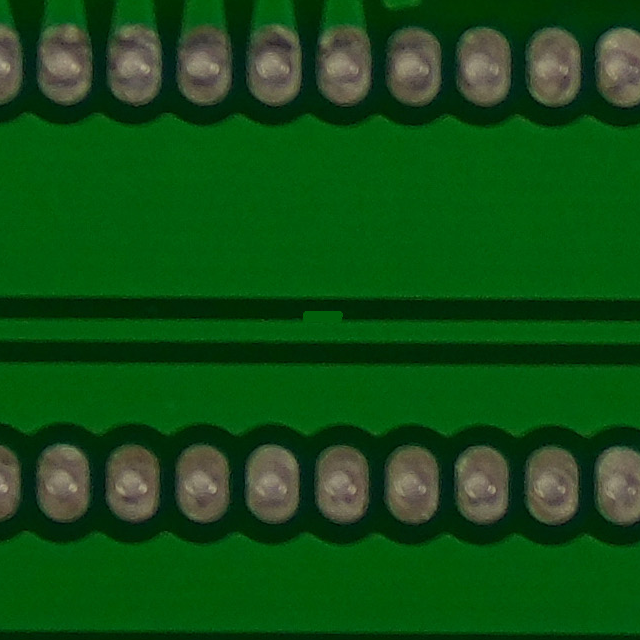spur: (269, 298, 371, 342)
